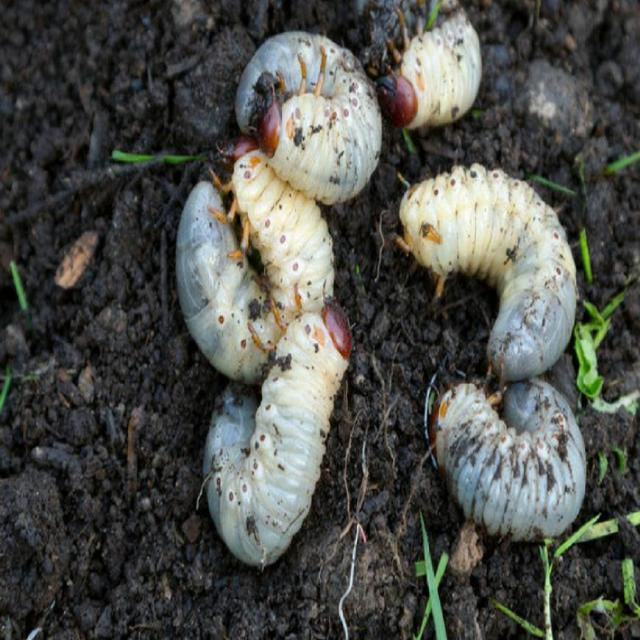Grub-Adult-: (189, 288, 377, 562), (160, 139, 341, 391), (391, 162, 583, 372), (418, 355, 599, 548), (216, 22, 386, 198)
